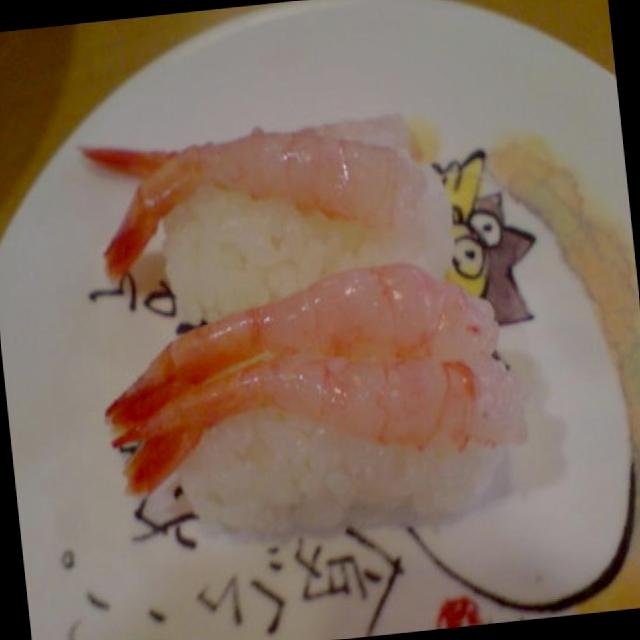Sushi: (112, 117, 466, 520)
